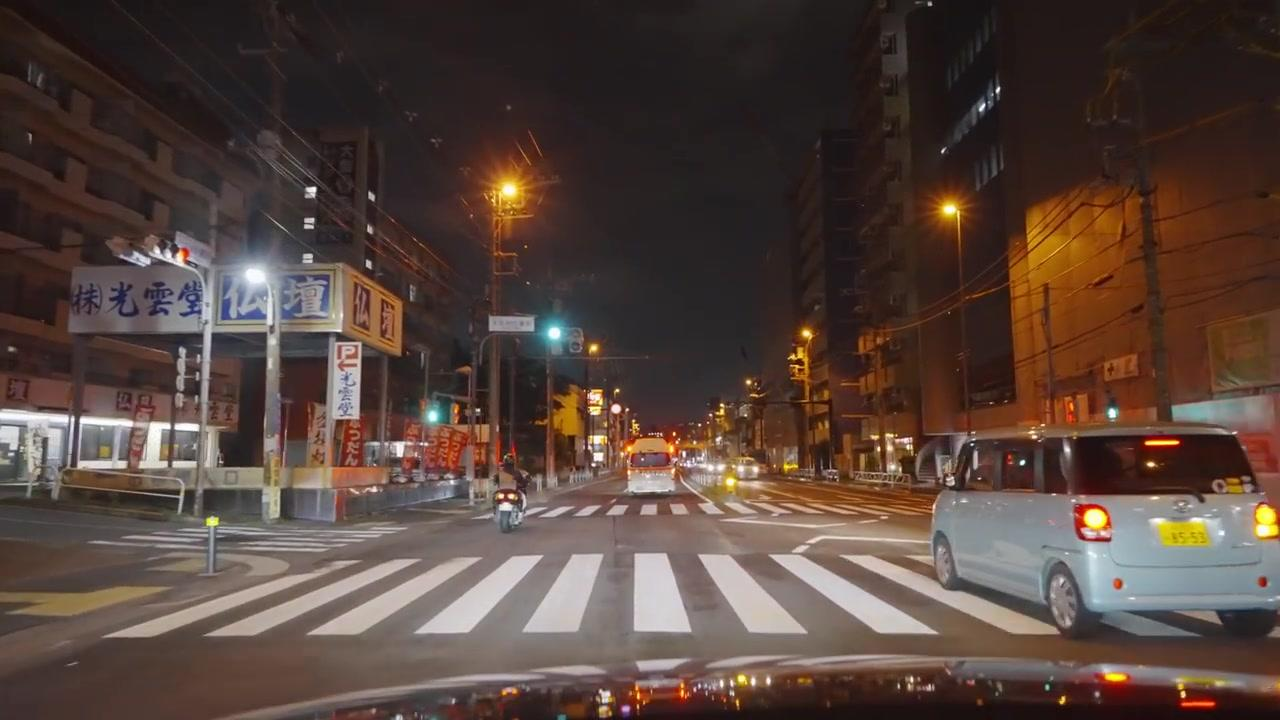bus: (624, 437, 676, 494)
car: (927, 422, 1277, 640), (733, 459, 761, 479), (820, 469, 841, 481)
motorcycle: (493, 489, 527, 531)
person: (495, 454, 530, 510)
traffic light: (179, 350, 202, 398), (542, 316, 566, 349), (424, 395, 446, 425), (788, 350, 807, 381), (1105, 387, 1120, 422), (1065, 397, 1077, 423)
